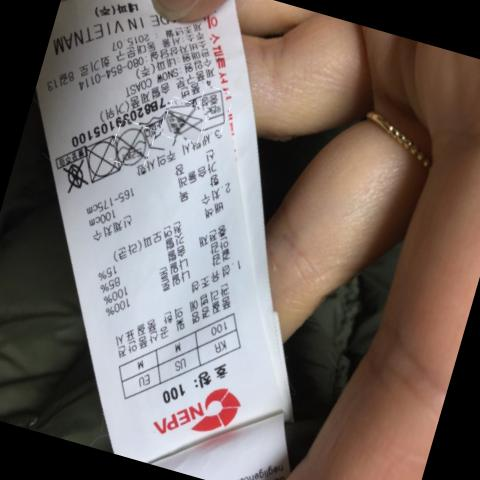DN_bleach: (168, 107, 201, 136)
DN_dry_clean: (119, 124, 150, 165)
DN_tumble_dry: (87, 135, 122, 182)
